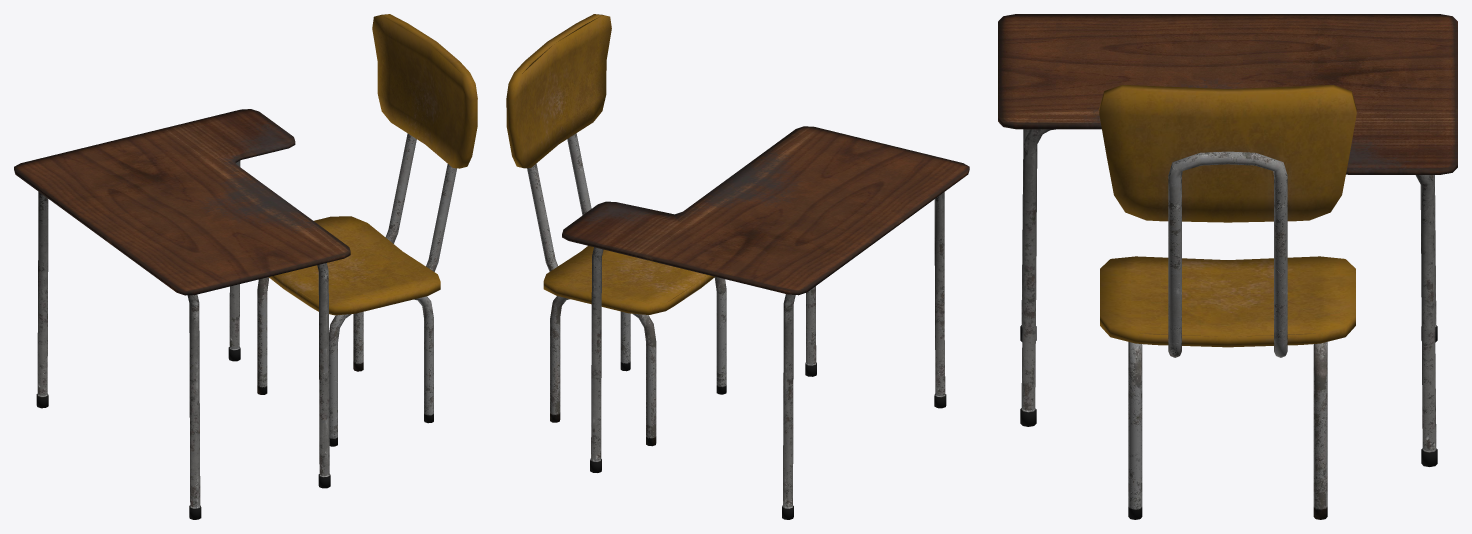
Rendered from S_desk.fbx.
The picture shows the model from 3 angles, left to right: view 1: azimuth 30°, elevation 25°; view 2: azimuth 150°, elevation 25°; view 3: azimuth 270°, elevation 25°; orthographic projection. The views are drawn at different scales.
Visible parts, largest first — view 1: defaultMaterial.062, defaultMaterial.063; view 2: defaultMaterial.062, defaultMaterial.063; view 3: defaultMaterial.063, defaultMaterial.062.
Part boxes in pixels (<box>): defaultMaterial.062: <box>14,109,350,519</box>; defaultMaterial.063: <box>257,14,477,446</box>; defaultMaterial.062: <box>562,126,969,519</box>; defaultMaterial.063: <box>506,14,726,446</box>; defaultMaterial.063: <box>1099,85,1356,519</box>; defaultMaterial.062: <box>998,14,1457,466</box>.
Size of the model in its own units: 442 by 416 by 385.
1 material, 1 textured.
